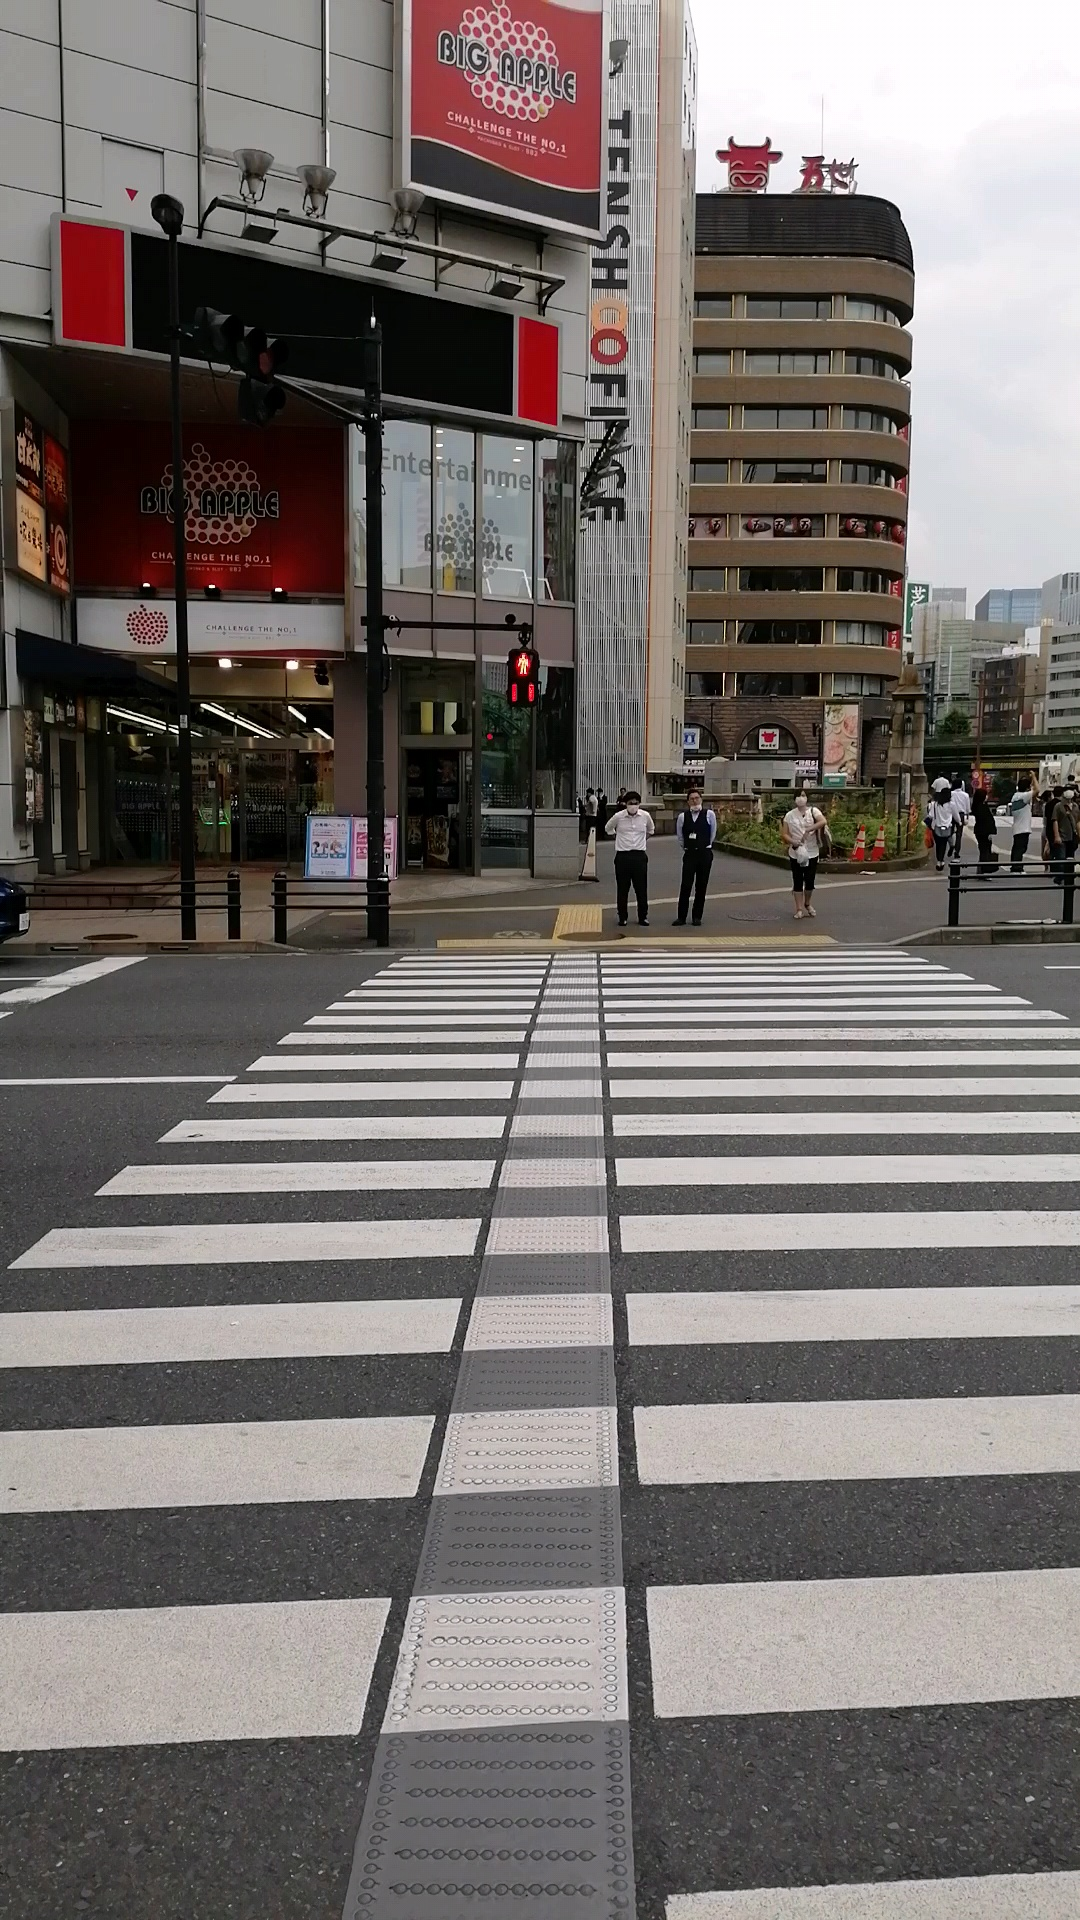red: (506, 647, 541, 709)
